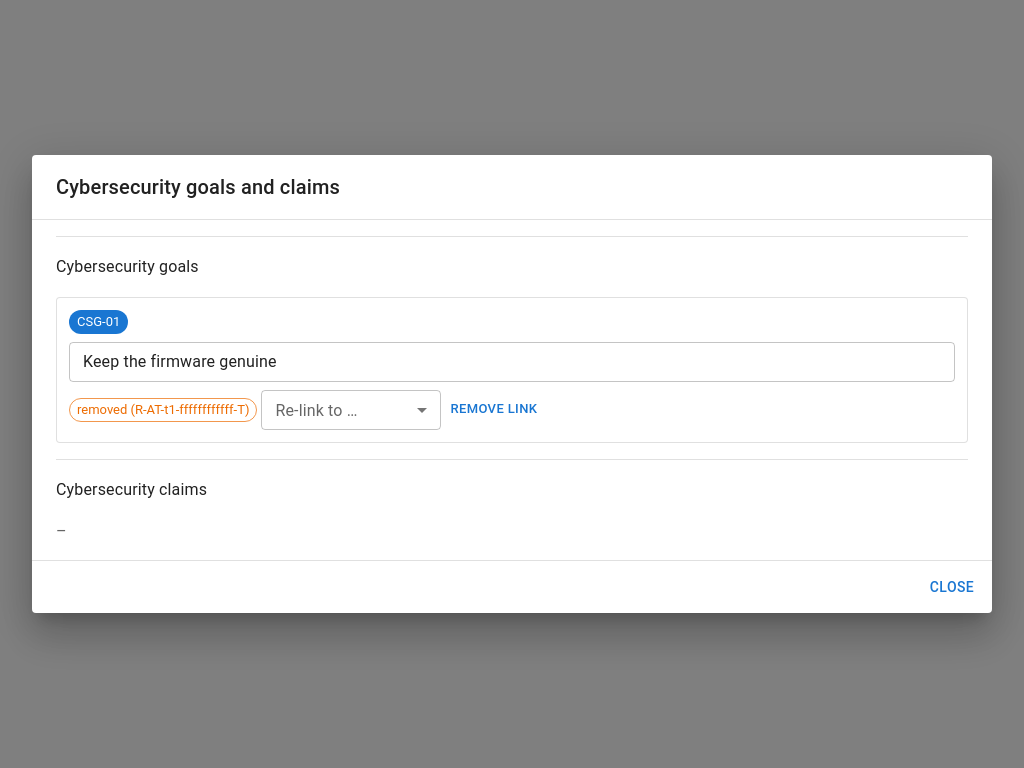
GoalsClaimsDialog — re-link a removed risk (FX-5) › removes the dead link
This screenshot has width=1024, height=768.
Click the button with test id "drop-link-CSG-01" at (494, 410), box [445,394,542,425]
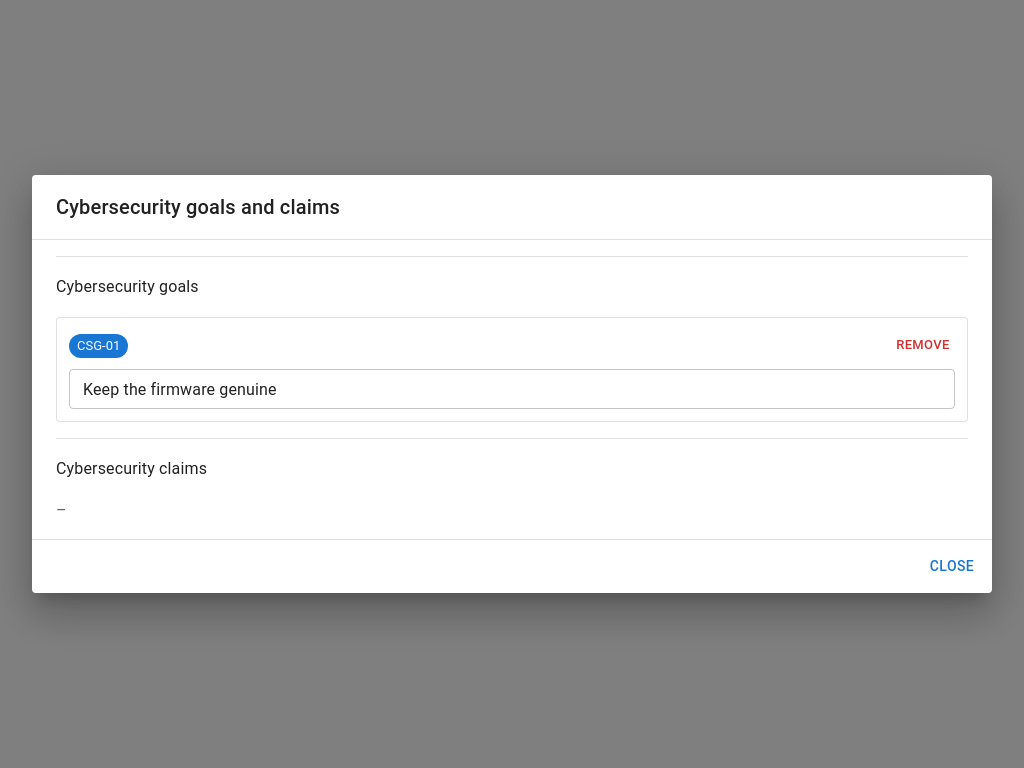
Now the element with test id "dead-link-CSG-01" is gone
